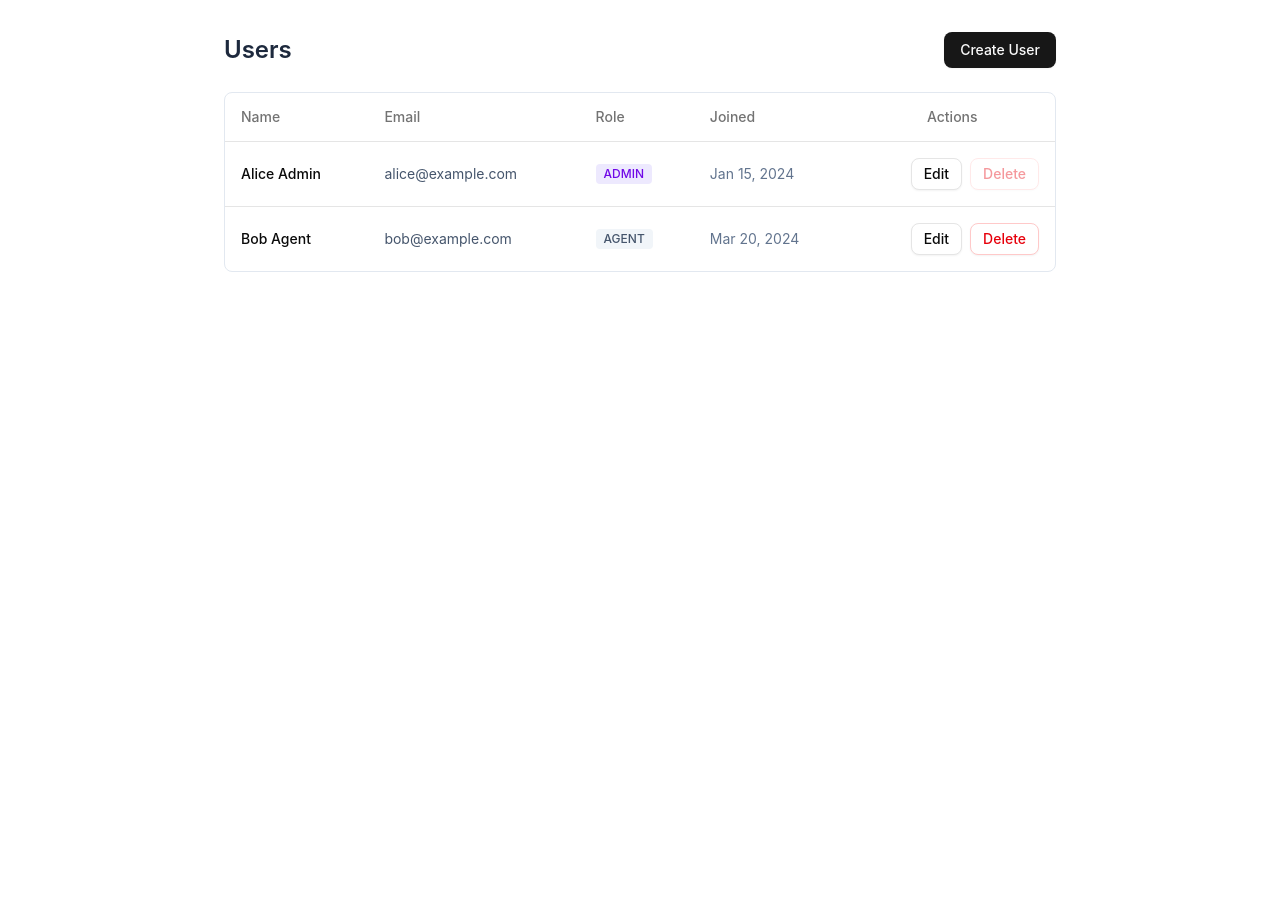
Test: UsersPage › modal › opens when Create User is clicked
Expected: the text "Alice Admin" is shown, [225, 141, 368, 206]
Click the button "Create User". click: (1000, 50)
box: [944, 32, 1056, 68]
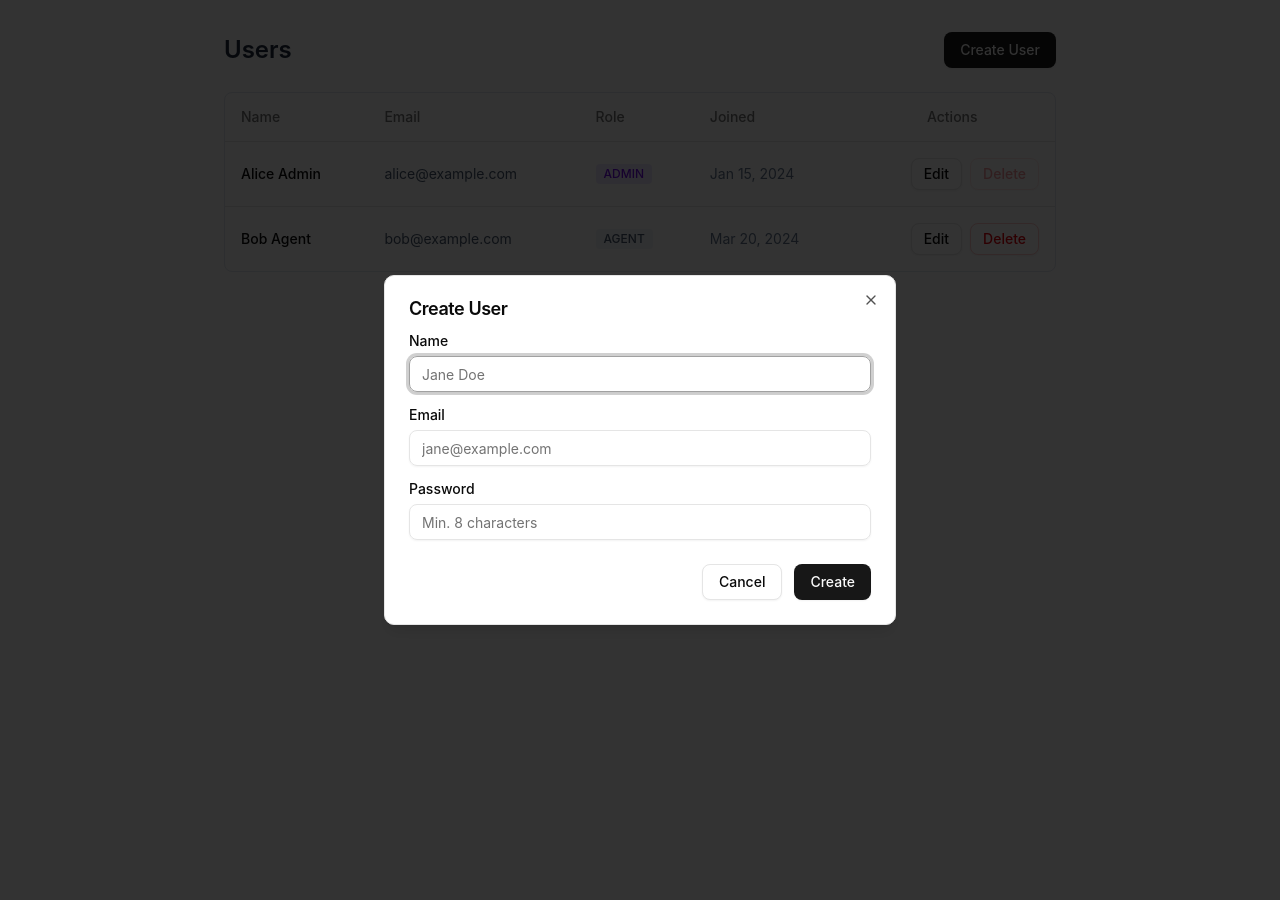
Result: the heading "Create User" is shown at [409, 298, 508, 319]
Result: the field labelled "Name" is shown at [409, 356, 871, 392]
Result: the field labelled "Email" is shown at [409, 430, 871, 466]
